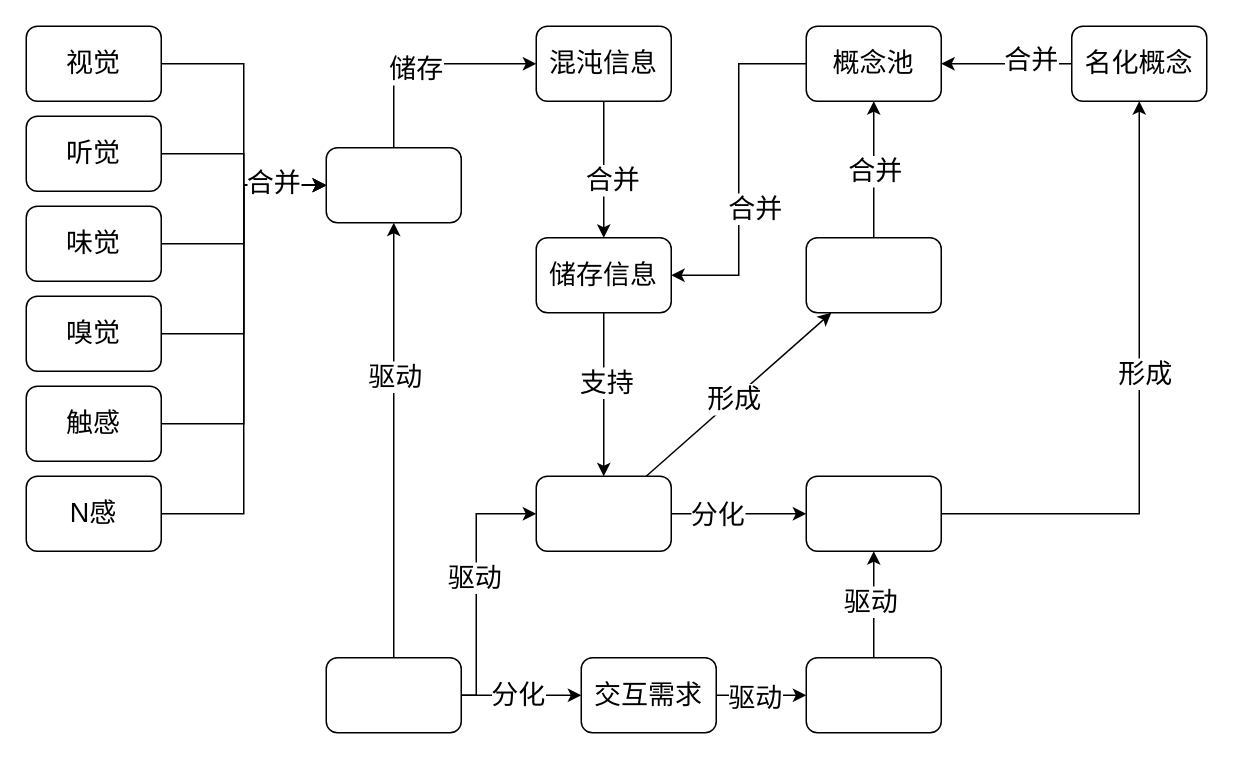
The diagram is 1233 pixels wide and 759 high, and some of its shapes have lost their labels. Here are the shapes that lost their labels. From the top down, the box of each, then its label:
(325, 146, 461, 223): 感知
(805, 236, 941, 313): 非名概念
(535, 475, 671, 551): 思维
(805, 475, 941, 551): 承载思维
(325, 656, 461, 733): 需求
(805, 656, 941, 733): 表达需求
